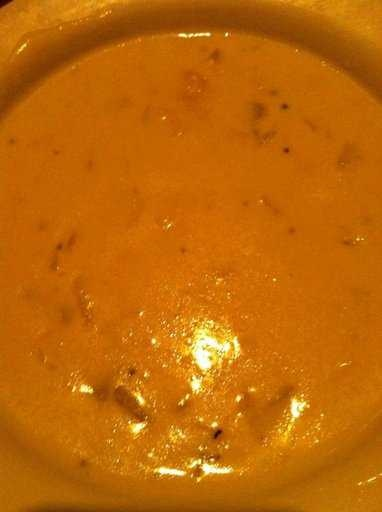soup: (7, 6, 355, 492)
